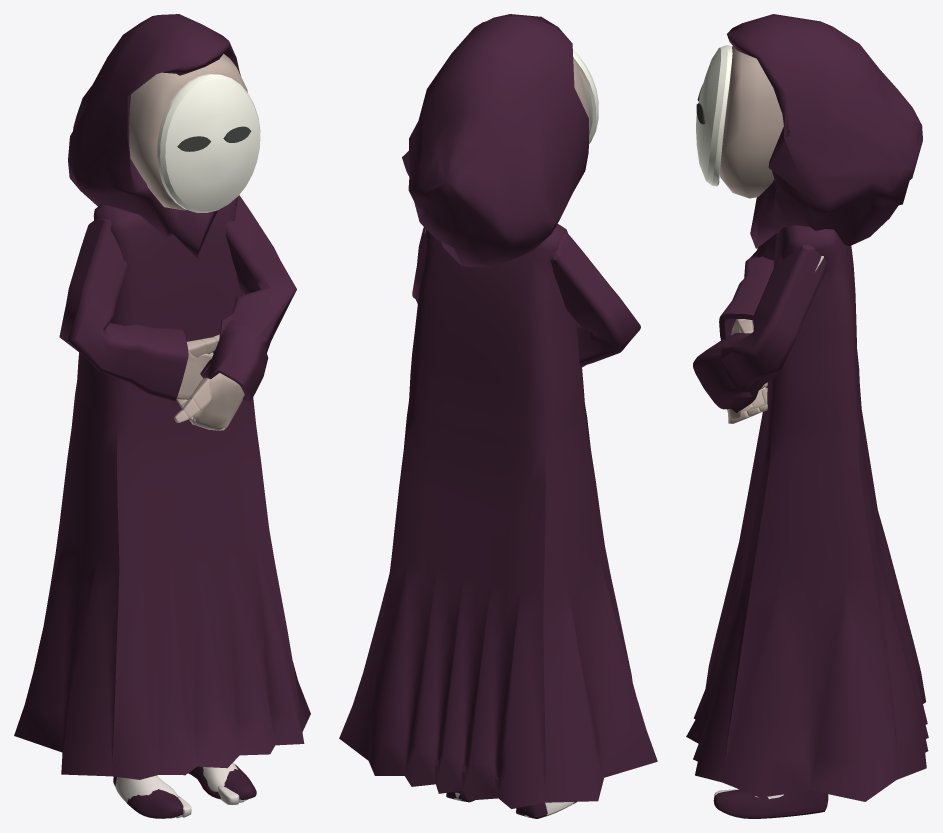
File: Piscis.fbx
The picture shows the model from 3 angles, left to right: view 1: azimuth 30°, elevation 25°; view 2: azimuth 150°, elevation 25°; view 3: azimuth 270°, elevation 25°; orthographic projection.
Visible parts, largest first — view 1: polySurface3, Caputxa, polySurface8, màscara, polySurface9, head_geo, R_palm_R_geo (×2), foot_R_geo, foot_L_geo, foot_R_geo1; view 2: polySurface3, Caputxa, polySurface8, màscara; view 3: polySurface3, Caputxa, polySurface9, head_geo, màscara, foot_L_geo, polySurface8.
Part boxes in pixels (<box>): polySurface3: <box>14,197,310,779</box>; Caputxa: <box>68,14,240,257</box>; polySurface8: <box>59,218,188,401</box>; màscara: <box>157,73,260,212</box>; polySurface9: <box>200,195,296,401</box>; head_geo: <box>129,53,247,210</box>; R_palm_R_geo (×2): <box>176,351,244,430</box>; foot_R_geo: <box>113,776,183,818</box>; foot_L_geo: <box>188,764,256,799</box>; foot_R_geo1: <box>115,775,178,802</box>; polySurface3: <box>339,224,657,808</box>; Caputxa: <box>402,14,588,267</box>; polySurface8: <box>550,232,640,367</box>; màscara: <box>573,49,598,143</box>; polySurface3: <box>686,225,928,801</box>; Caputxa: <box>727,14,922,248</box>; polySurface9: <box>693,244,827,413</box>; head_geo: <box>719,46,783,198</box>; màscara: <box>696,45,732,186</box>; foot_L_geo: <box>713,789,828,818</box>; polySurface8: <box>719,233,776,340</box>.
Size of the model in its own units: 1.24 by 3.48 by 0.9859.
